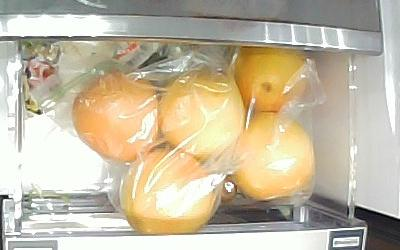grapefruit_vinyl: (156, 69, 244, 160), (122, 149, 216, 234), (72, 72, 159, 160), (231, 113, 316, 203), (230, 46, 308, 112)
